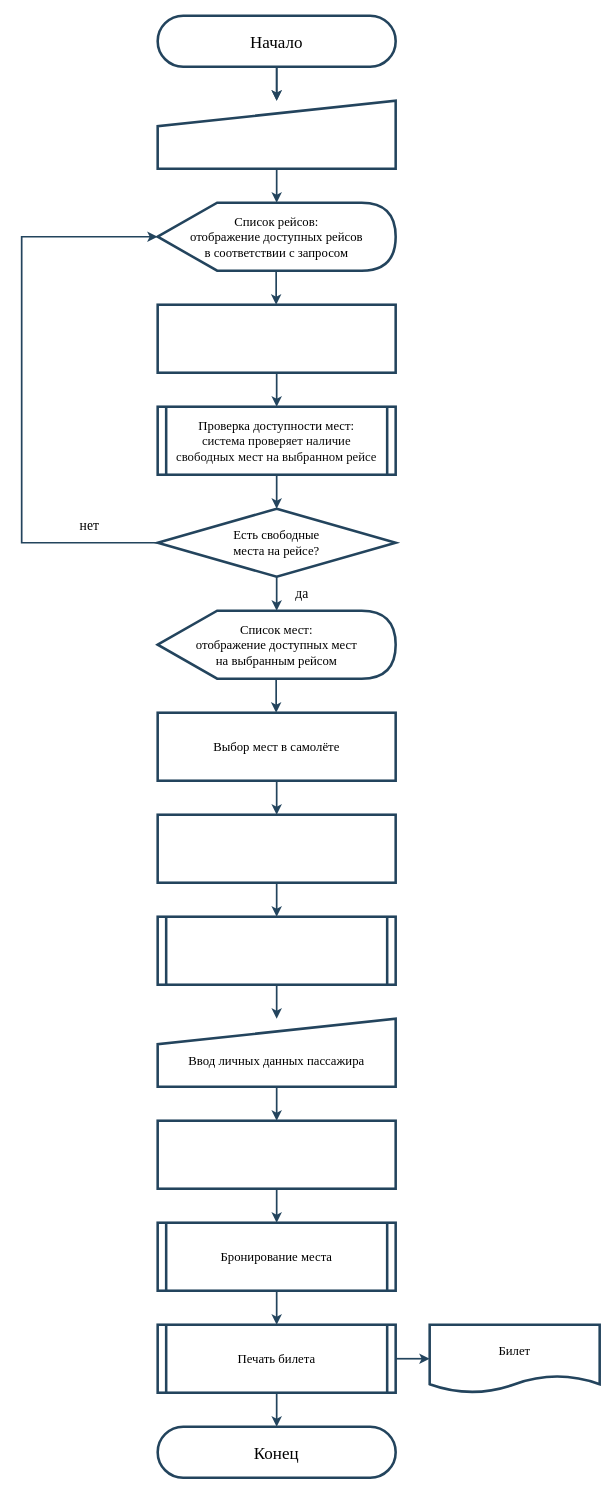
Some shapes in this 615 by 1493 pixel diagram are drawn without their labels. The centre of each missing label's shape, as x and y in pixels:
"Ввод данных для поиска (пункт отправления, пункт назначения, дата)" goes at point (276, 134).
"Выбор дополнительных опций (таких как питание и багаж)" goes at point (276, 848).
"Выбор желаемого рейса" goes at point (276, 338).
"Оплата билета" goes at point (276, 1154).
"Расчёт стоимости: система рассчитывает общую стоимость с учётом выбранных услуг" goes at point (276, 950).
